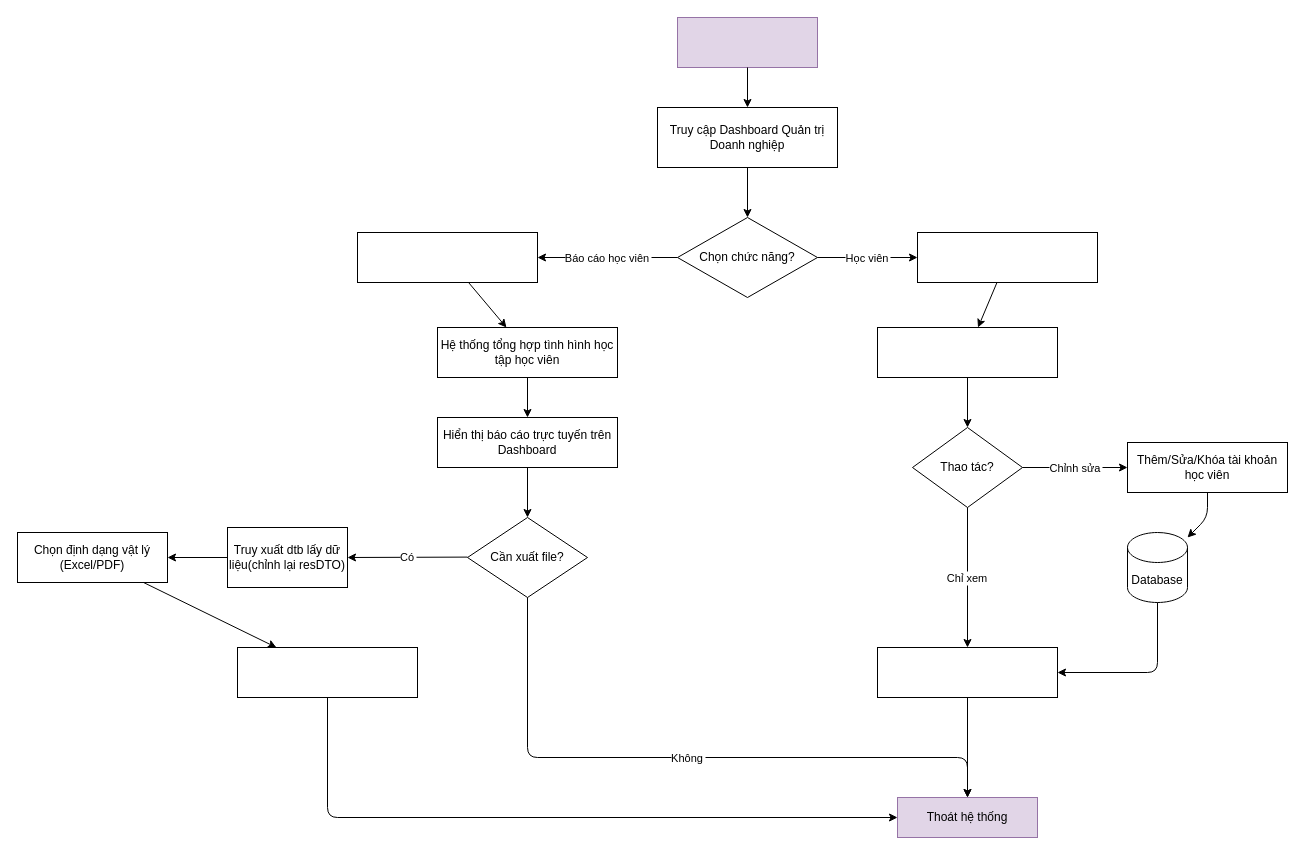
This 1305x855 diagram has some shape labels left out. The centre of each missing label's shape, as x and y in pixels:
Cập nhật thay đổi & thông báo: the point at 967,672
Gửi yêu cầu truy xuất dữ liệu (lấy từ dtb): the point at 447,257
Hệ thống xuất link & Tải báo cáo: the point at 327,672
Truy cập danh sách học viên: the point at 1007,257
Tìm kiếm/Lọc theo trạng thái học tập: the point at 967,352
Đăng nhập (Business): the point at 747,42
